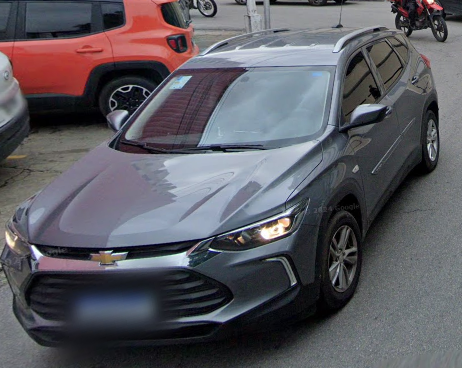car: (12, 27, 440, 339)
